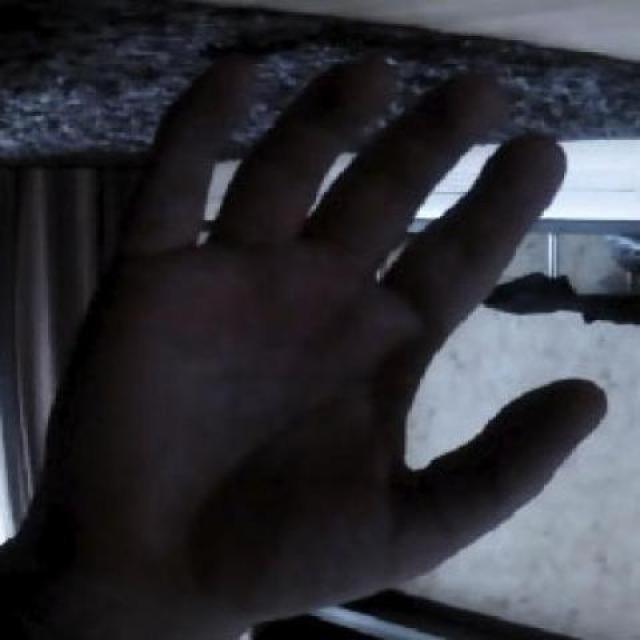Open Hand: (15, 37, 609, 640)
